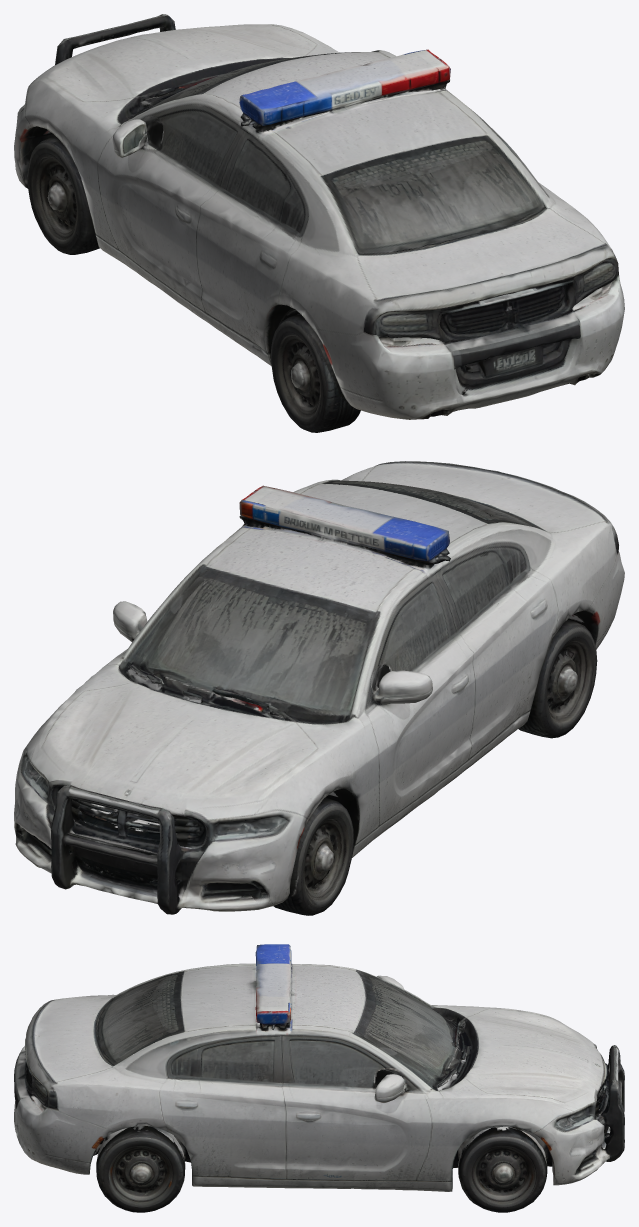
Rendered from PoliceCar.glb.
The picture shows the model from 3 angles, top to bottom: view 1: azimuth 30°, elevation 25°; view 2: azimuth 150°, elevation 25°; view 3: azimuth 270°, elevation 25°; orthographic projection. The views are drawn at different scales.
Visible parts, largest first — view 1: texture_mapping; view 2: texture_mapping; view 3: texture_mapping.
Boxes of the visible parts, <box> form: texture_mapping: <box>14,14,624,432</box>; texture_mapping: <box>14,461,624,915</box>; texture_mapping: <box>14,944,624,1212</box>.
Size of the model in its own units: 0.443 by 0.3412 by 1.
Materials: 1 (1 with a texture image).
